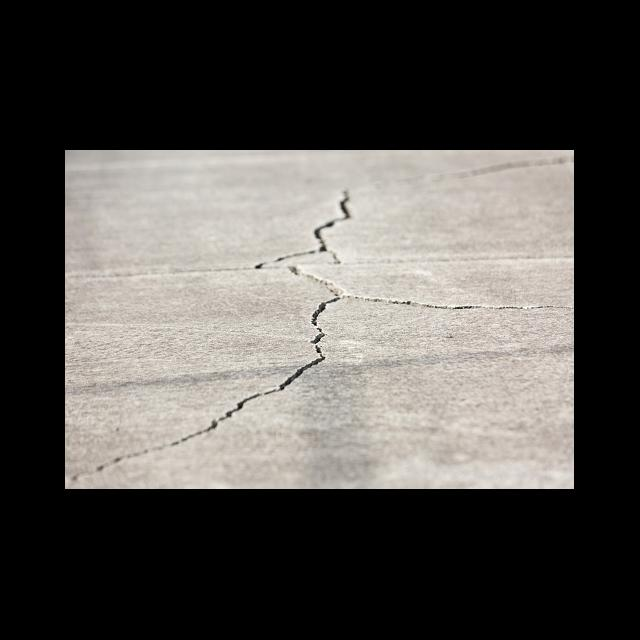retak_memanjang: (69, 344, 335, 488), (229, 175, 352, 439), (286, 270, 574, 334)
